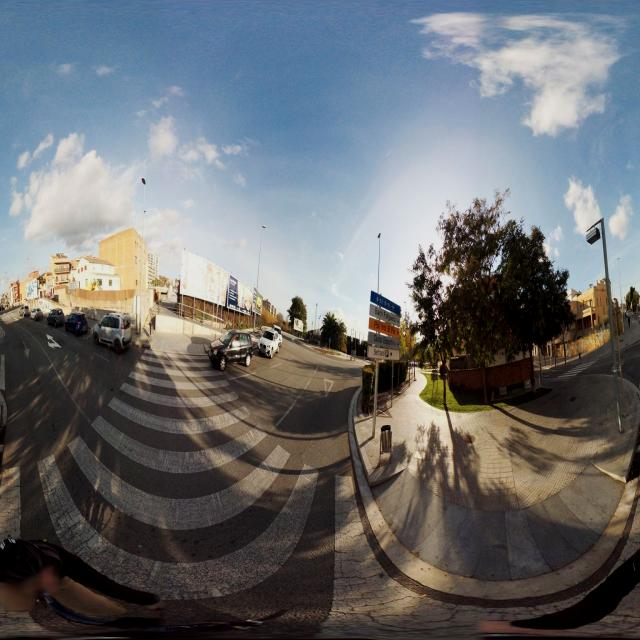car: (208, 329, 253, 370), (94, 313, 131, 352), (258, 327, 281, 357), (64, 311, 89, 336), (246, 328, 261, 354), (47, 308, 65, 328)
